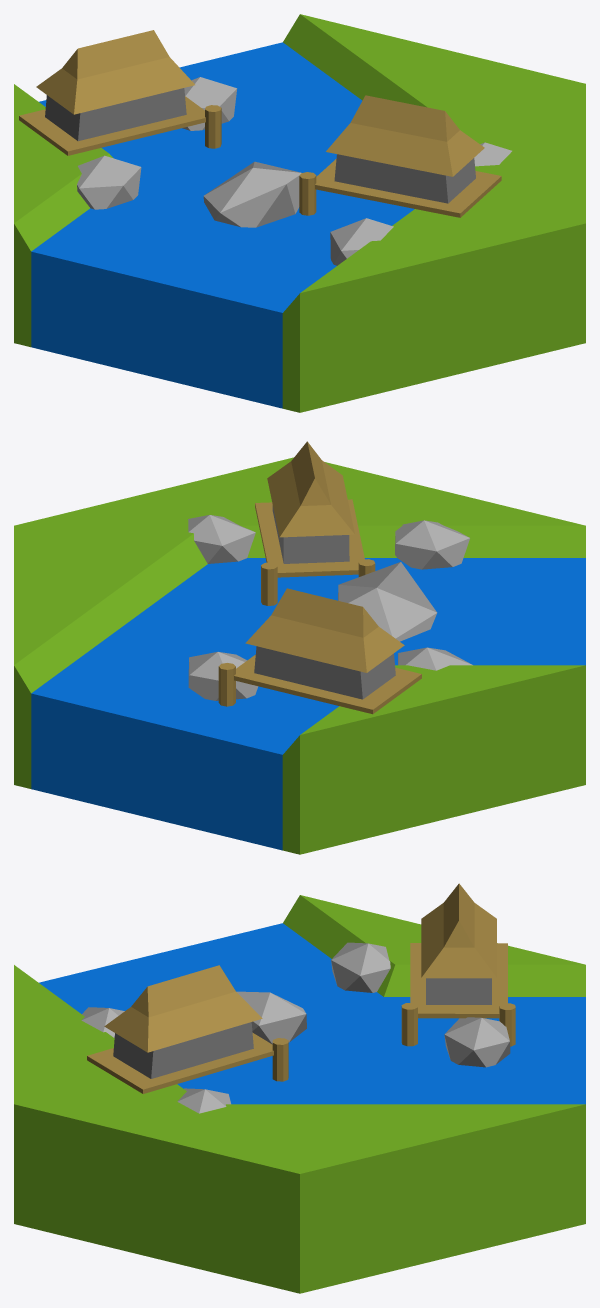
The model's file is Casas_Rio_Curva_2.fbx.
The picture shows the model from 3 angles, top to bottom: view 1: azimuth 30°, elevation 25°; view 2: azimuth 150°, elevation 25°; view 3: azimuth 270°, elevation 25°; orthographic projection.
Visible parts, largest first — view 1: Casas_Rio_Curva_2; view 2: Casas_Rio_Curva_2; view 3: Casas_Rio_Curva_2.
Part boxes in pixels (box(x1,y1,x2,y2)): Casas_Rio_Curva_2: box(14, 14, 585, 412); Casas_Rio_Curva_2: box(14, 441, 585, 854); Casas_Rio_Curva_2: box(14, 883, 585, 1293).
Bounding box in the file's own units: 200 × 67.29 × 173.
